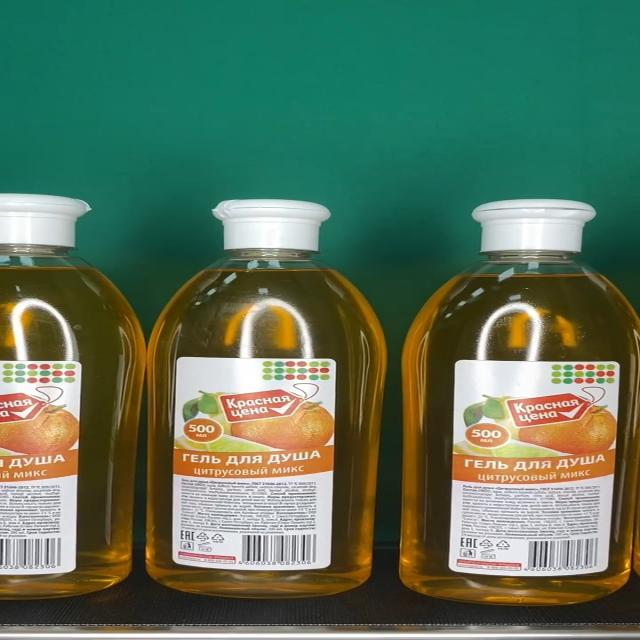Bottle: (400, 197, 640, 604), (147, 200, 389, 598)
Cap: (471, 198, 597, 252), (212, 200, 332, 250)
